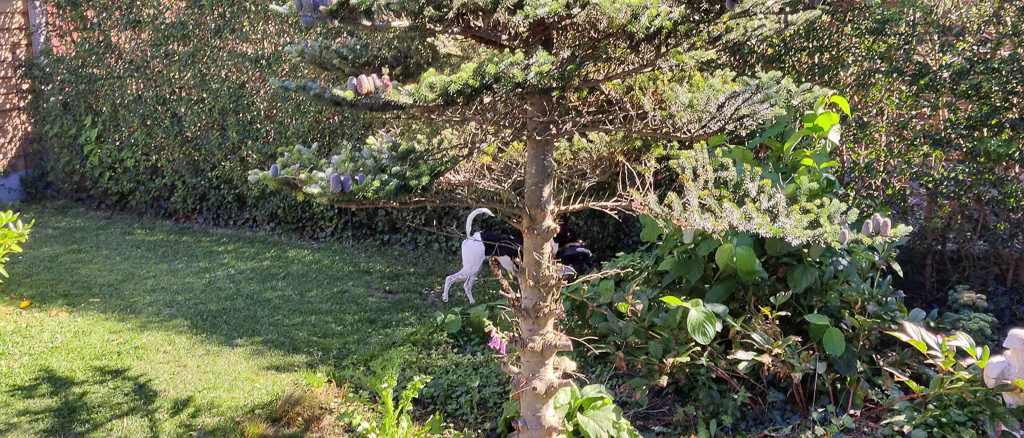Dog: (434, 192, 590, 311)
Eagle: (978, 317, 1024, 418)
